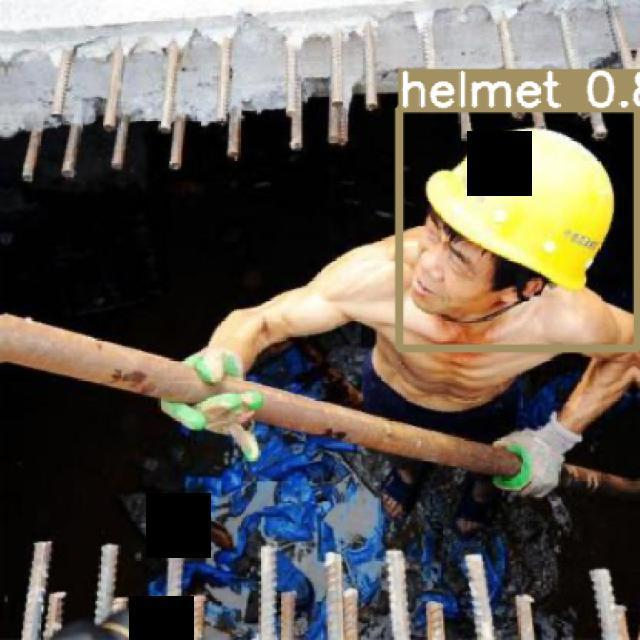yellow helmet: (414, 111, 619, 301)
